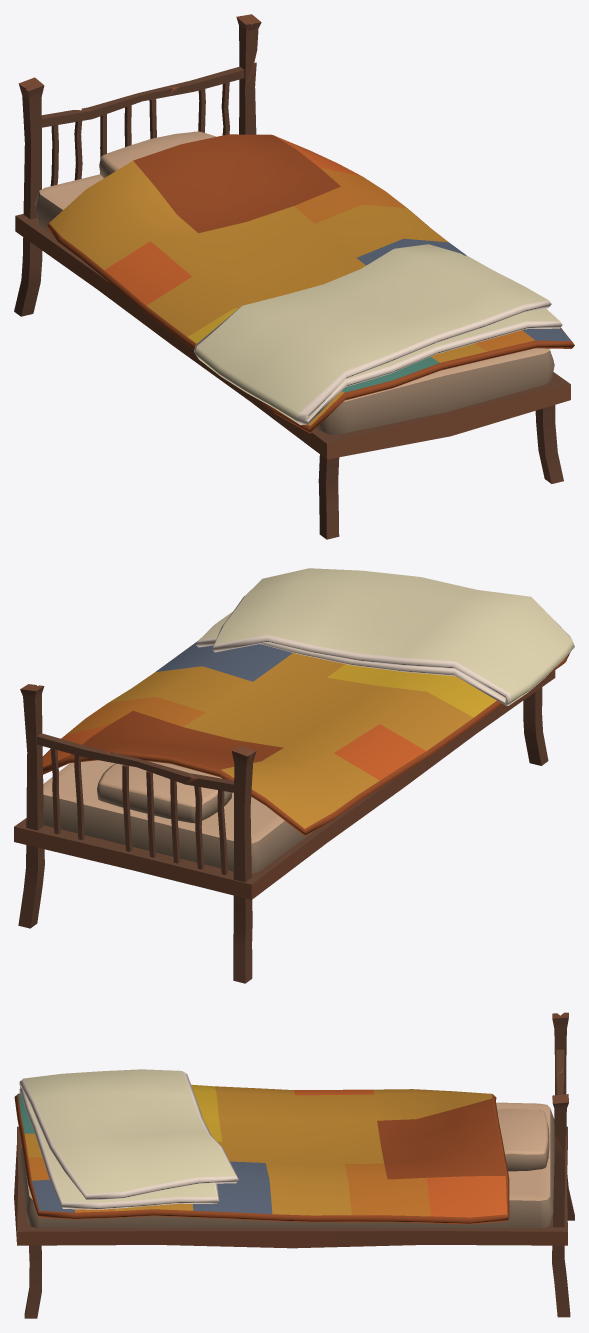
Rendered from P_bed_01.fbx.
3 renders of one model, top to bottom at view 1: azimuth 30°, elevation 25°; view 2: azimuth 150°, elevation 25°; view 3: azimuth 270°, elevation 25°, orthographic. The views are drawn at different scales.
Parts seen in each view (by area): view 1: lod1; view 2: lod1; view 3: lod1.
Part boxes in pixels (x1,y1,x2,y2): lod1: (14, 14, 574, 539); lod1: (14, 568, 574, 983); lod1: (14, 1012, 574, 1318).
Size of what is drawn, in the model's own units: 134 by 98.49 by 232.
1 material, 1 textured.
